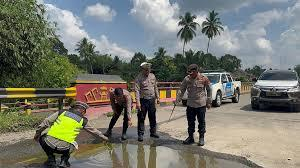Pothole: (7, 132, 273, 167)
